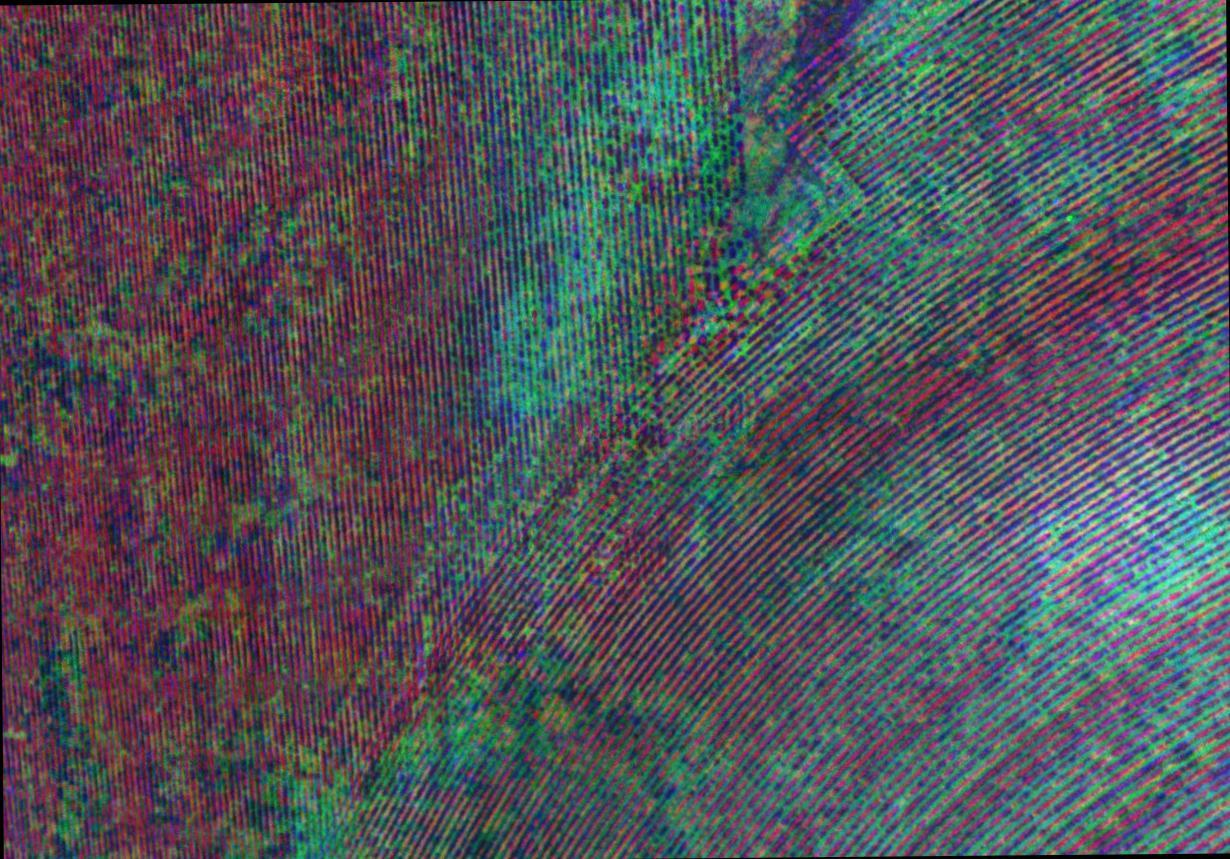dc: (581, 43, 709, 193), (493, 280, 611, 417), (276, 738, 398, 859), (788, 150, 912, 254), (1138, 475, 1230, 588), (861, 0, 986, 82)
